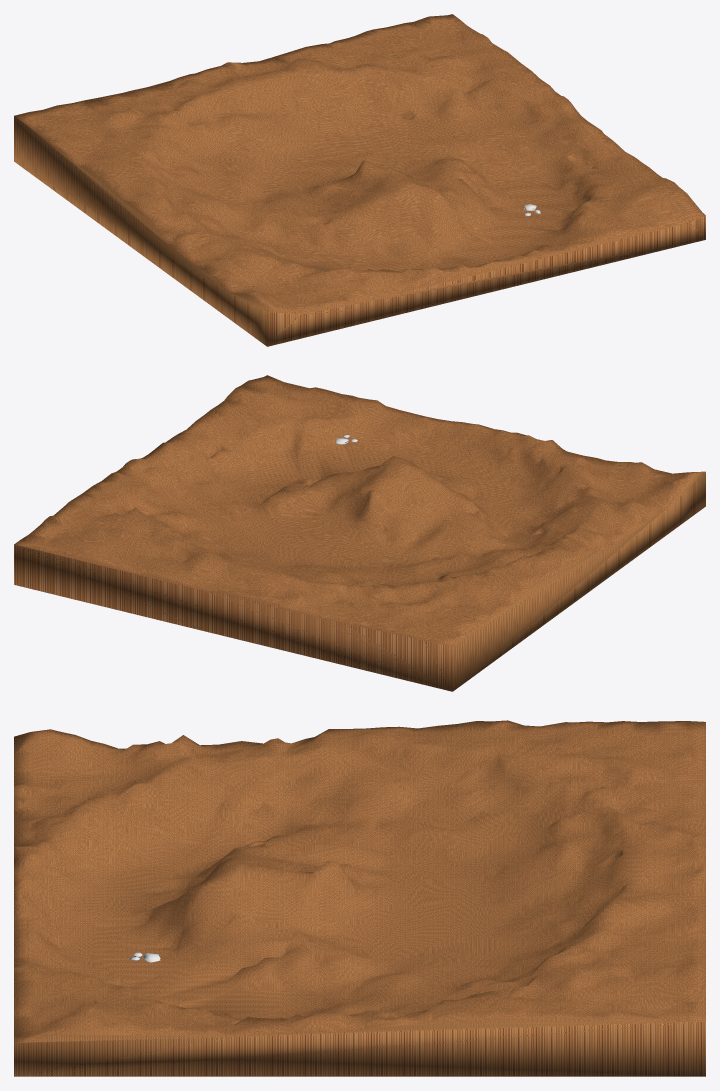
The model's file is Full landing site.glb.
3 renders of one model, top to bottom at view 1: azimuth 30°, elevation 25°; view 2: azimuth 150°, elevation 25°; view 3: azimuth 270°, elevation 25°, orthographic. The views are drawn at different scales.
Visible parts, largest first — view 1: Gale Crater; view 2: Gale Crater; view 3: Gale Crater.
Boxes of the visible parts, x1,y1,x2,y2 form: Gale Crater: [14, 14, 705, 346]; Gale Crater: [14, 375, 705, 691]; Gale Crater: [14, 720, 705, 1076].
Bounding box in the file's own units: 101 × 10.62 × 101.
Materials: 1 (1 with a texture image).
